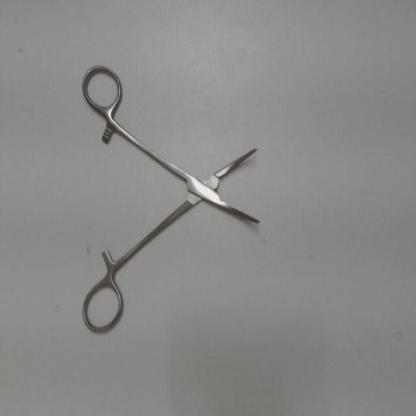Crile Artery Forceps: (78, 59, 272, 340)
